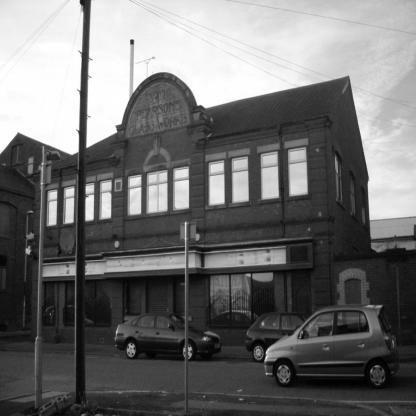car: (256, 296, 416, 402), (108, 307, 245, 380)
